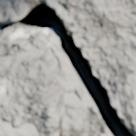brick: (0, 46, 64, 135)
crack: (0, 0, 135, 135)
